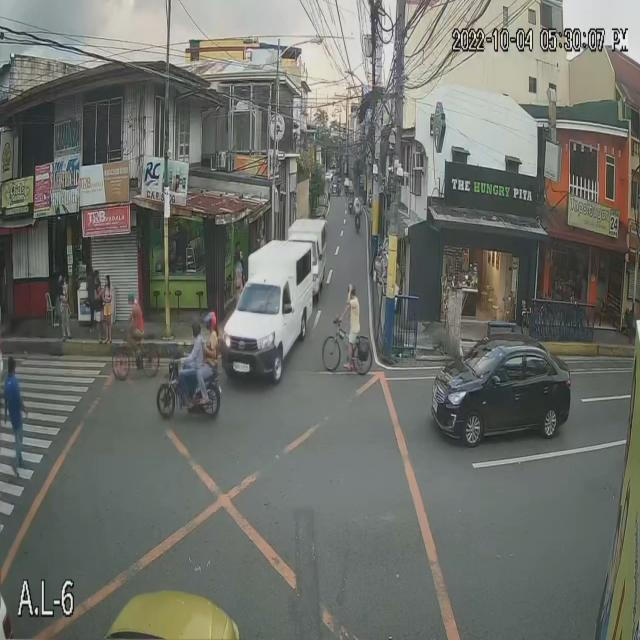half: (190, 316, 203, 336), (205, 310, 217, 331)
